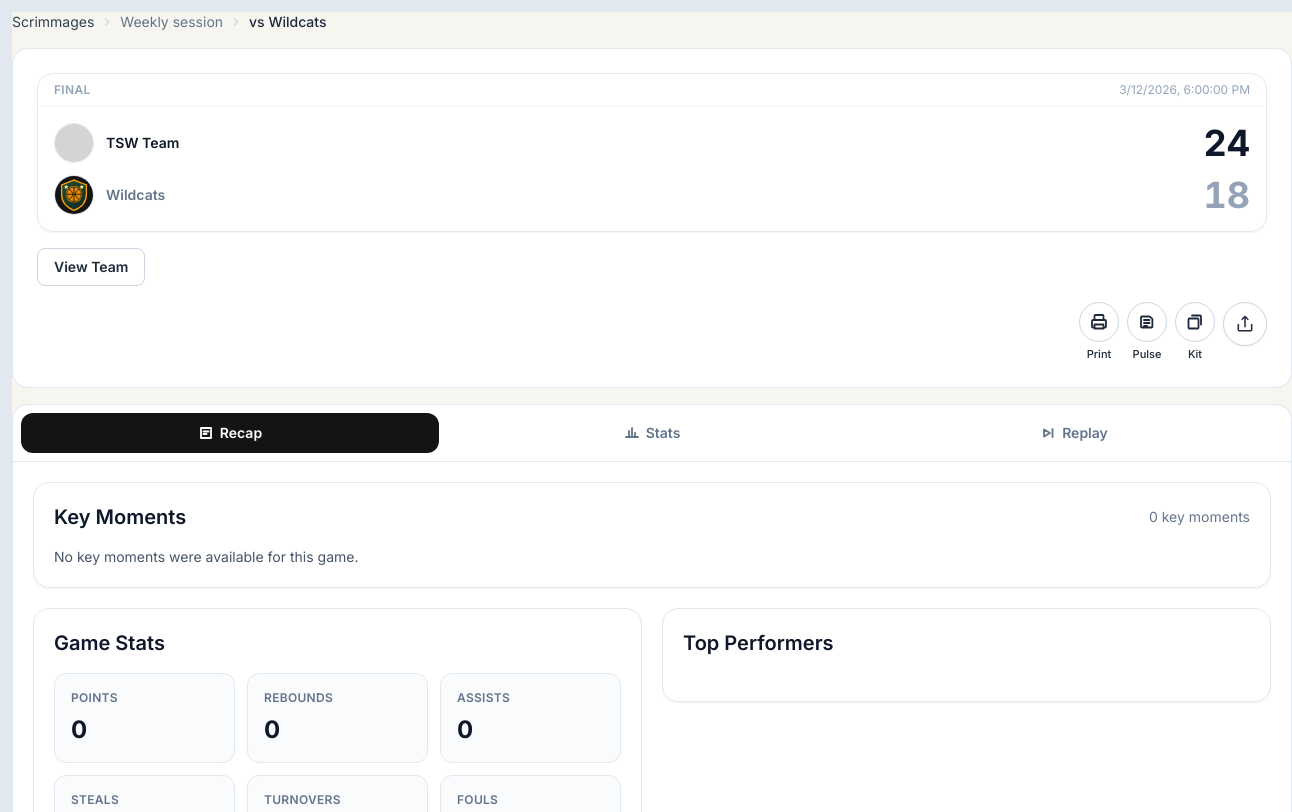
Test case: GameDetailPage — per-game player card › scrimmage box scores show only core metrics and link the series profile
The width and height of the screenshot is (1292, 812).
Click the tab "Stats".
click(652, 432)  # box [443,412,861,452]
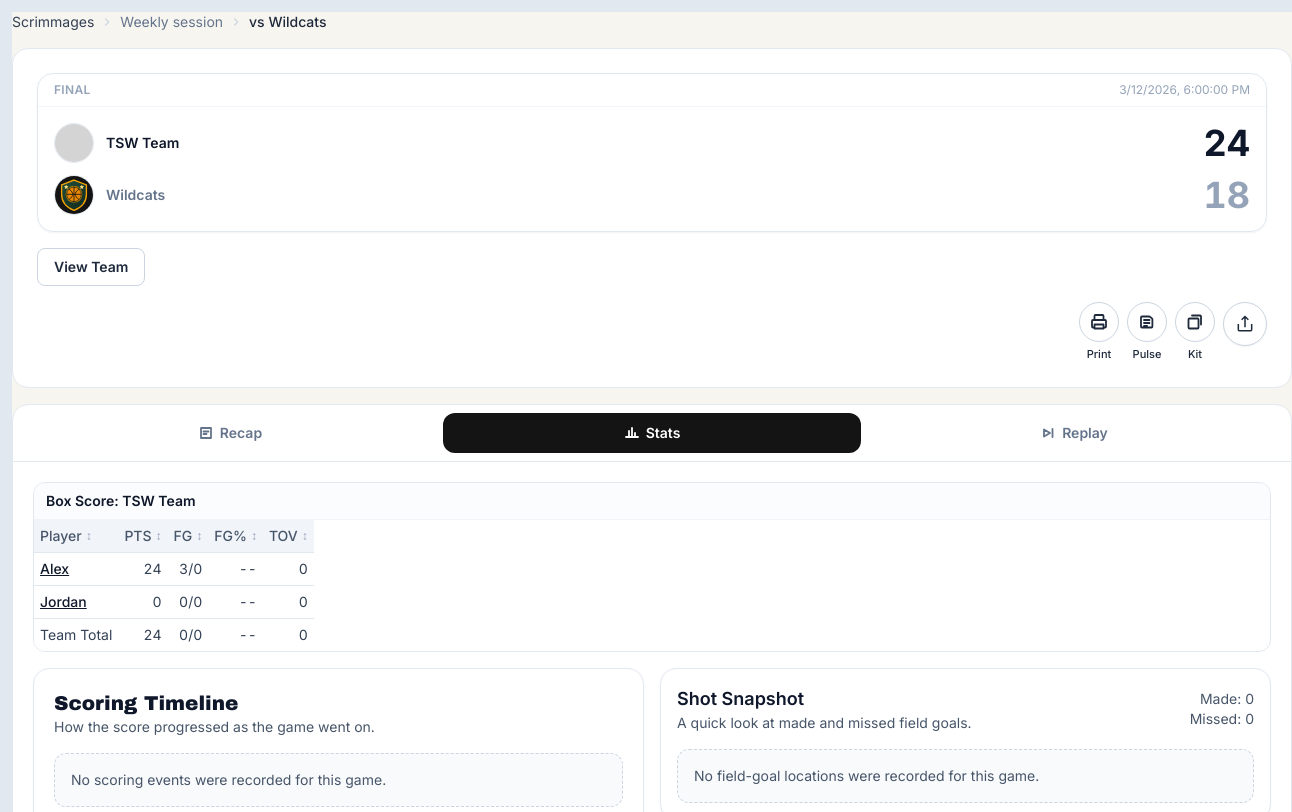
Check: the column heading "FG% ↕" is shown, box [208,520,263,552]
Check: the column heading "TOV ↕" is shown, box [263,520,314,552]
